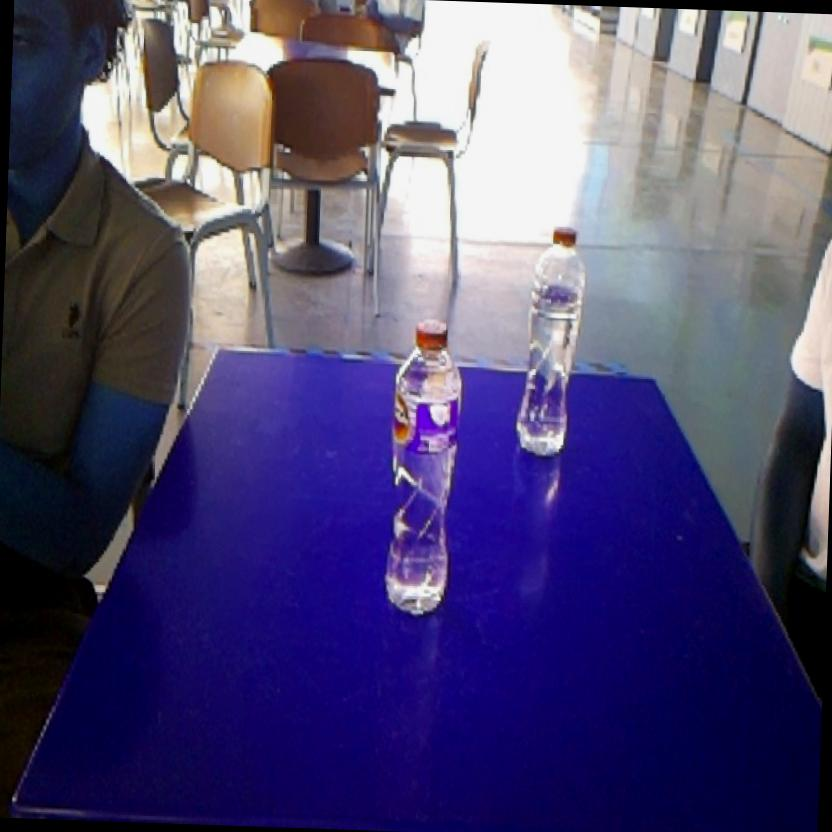good: (374, 309, 468, 630)
no_label: (509, 208, 595, 472)
